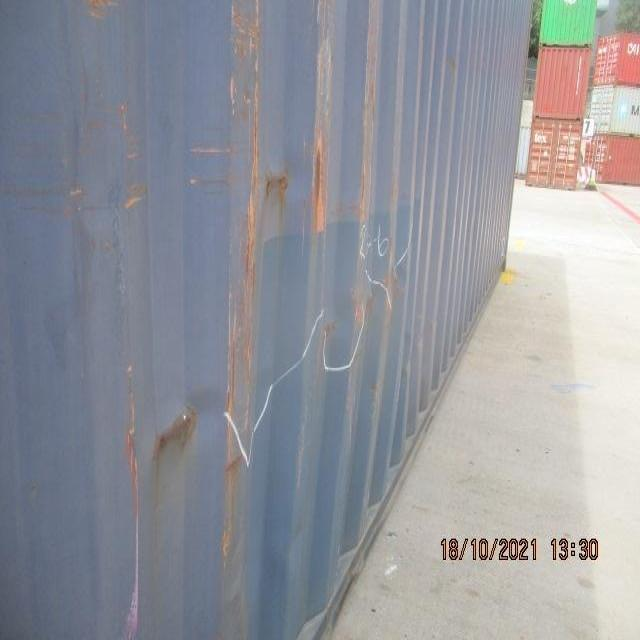dent: (122, 380, 230, 508), (255, 152, 315, 240)
